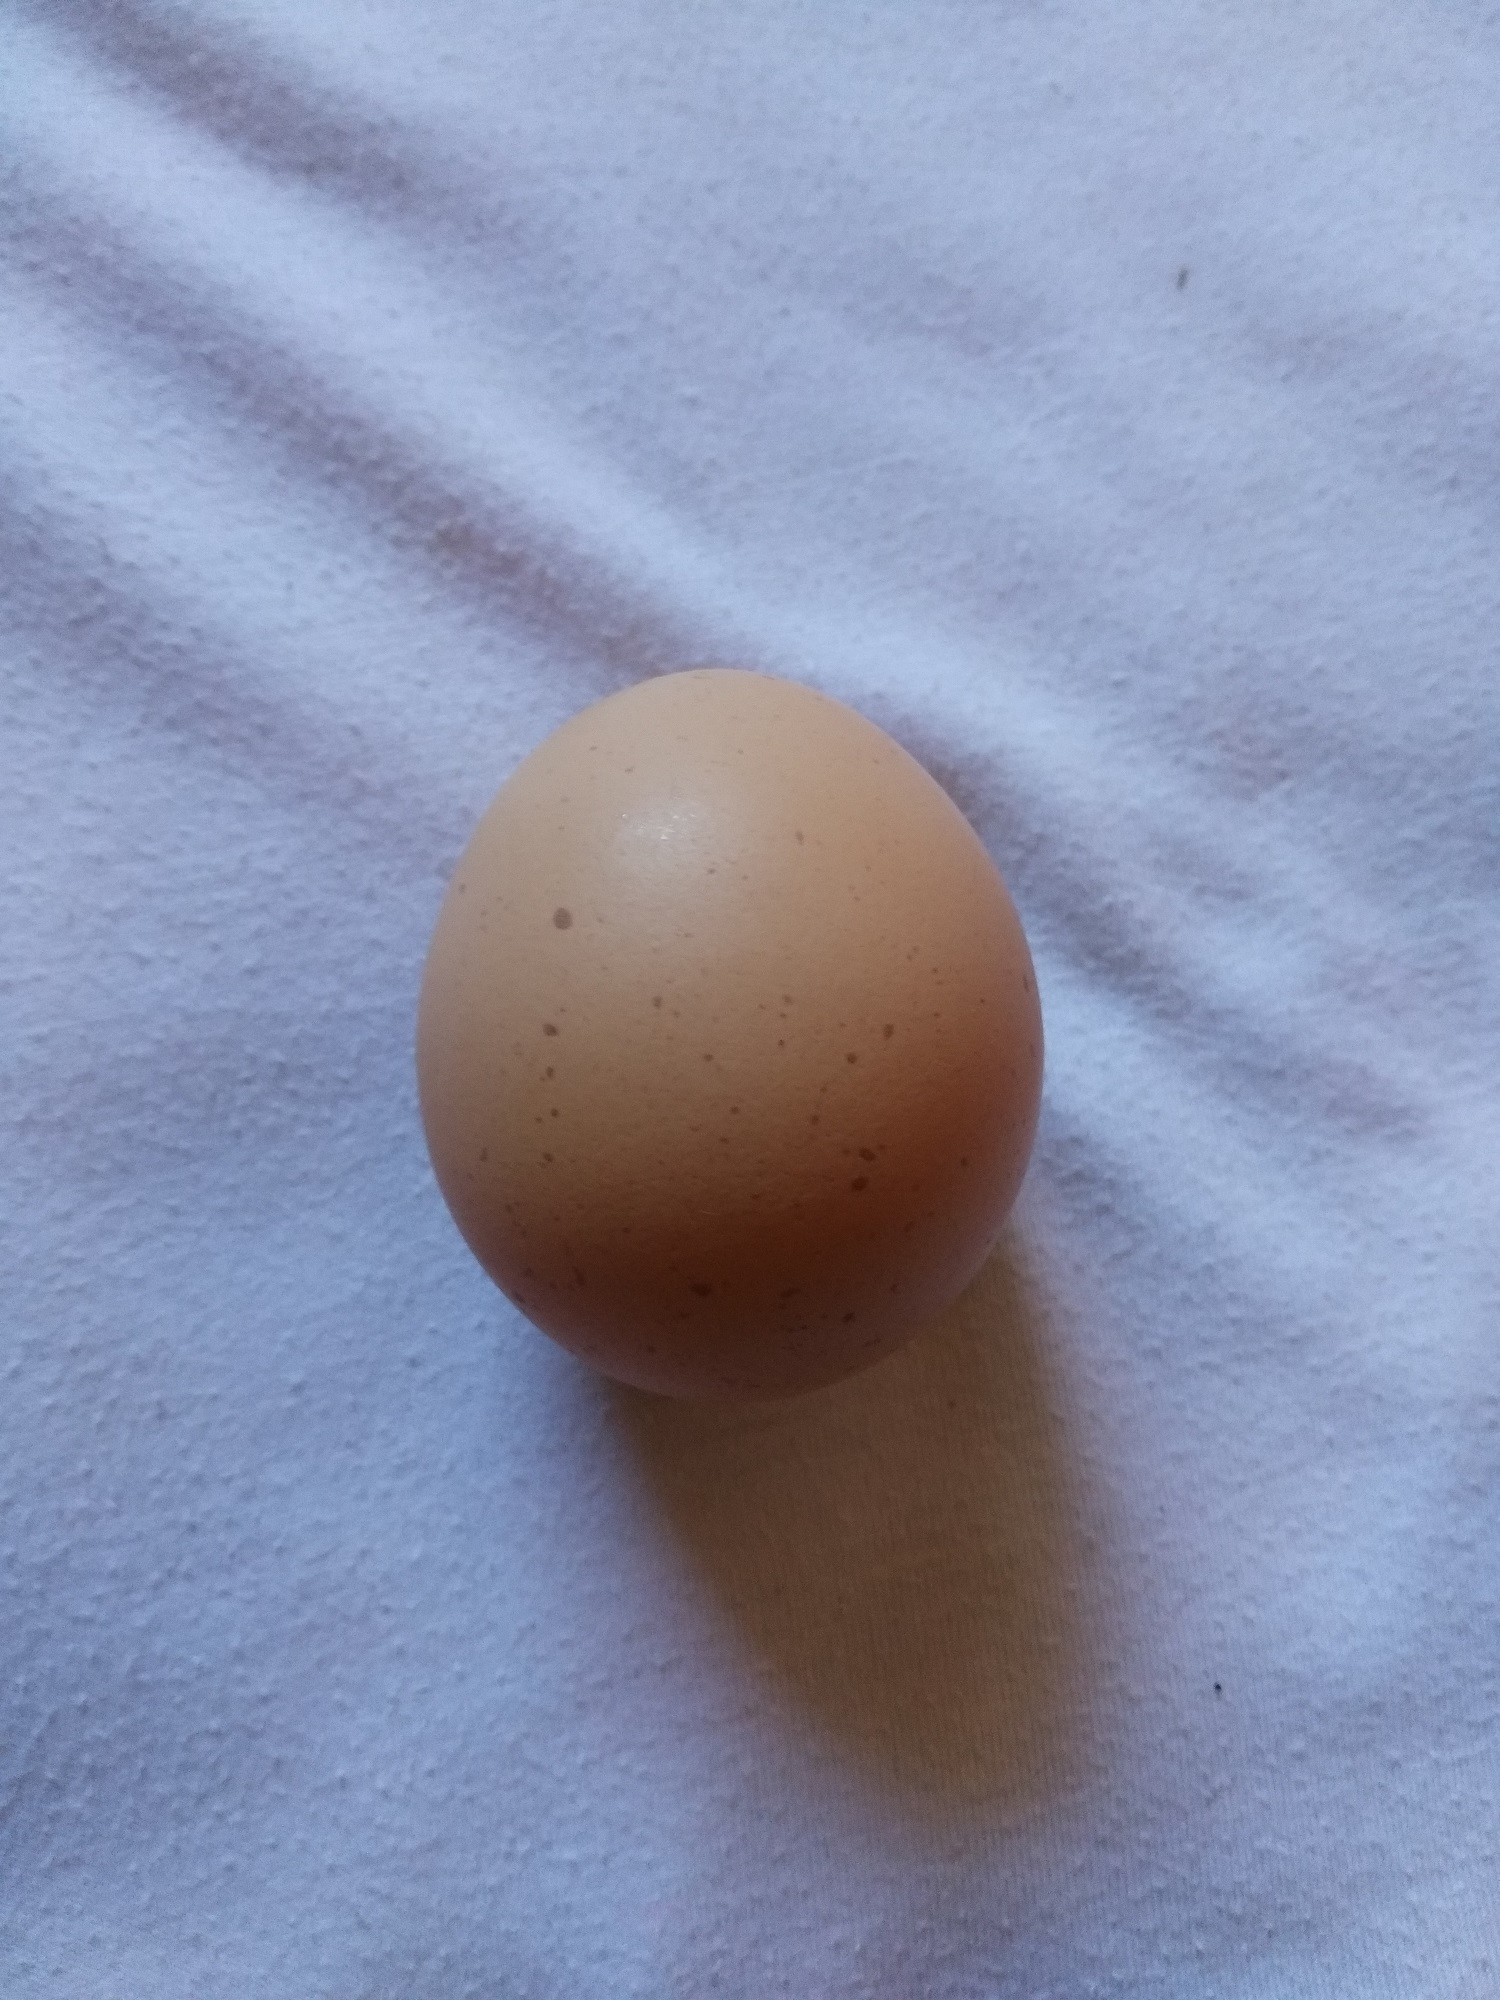Female: (411, 658, 1054, 1417)
